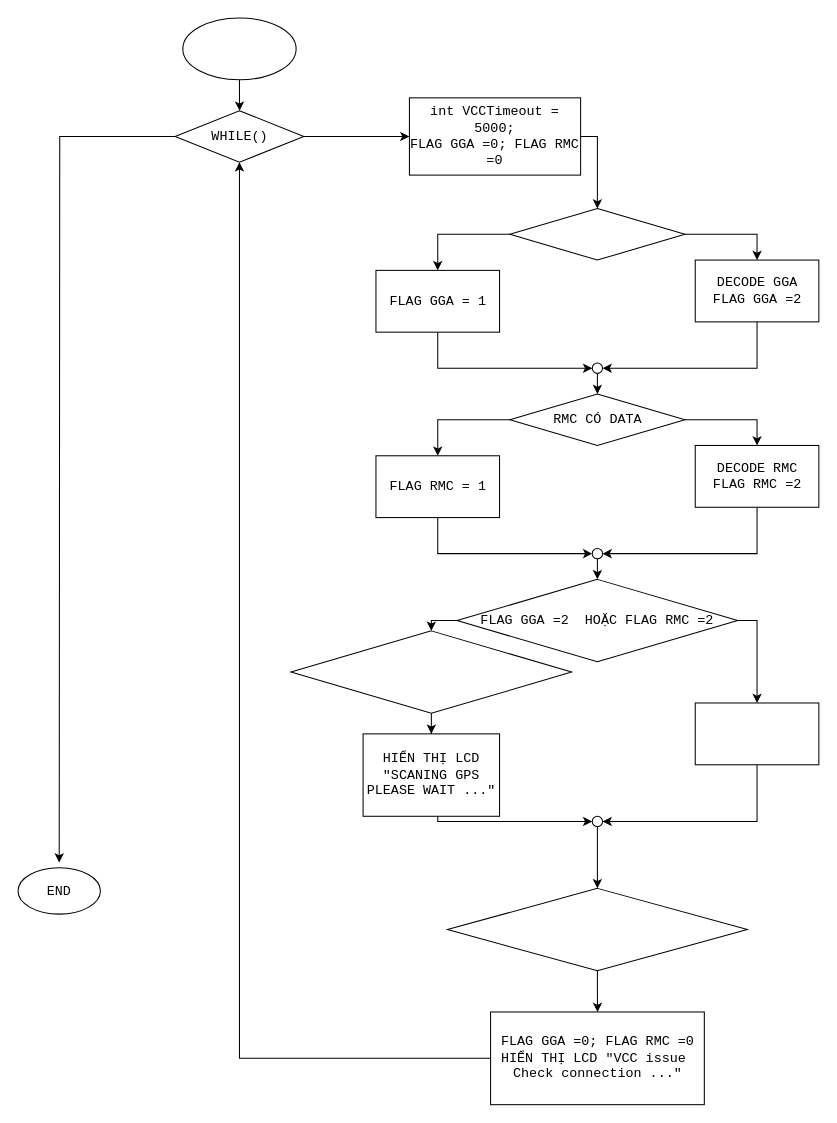
Image size: 837x1123. Some labels were removed from this diagram. The shapes that lost their labels are listed below. From the top down, each one's centre as x and y in pixels, then its label:
At point (239, 48): "start".
At point (597, 234): "GGA CÓ DATA".
At point (431, 671): "FLAG GGA =1 HOẶC FLAG RMC =1".
At point (756, 733): "HIỂN THỊ CÁC THÔNG SỐ DECODE LÊN LCD".
At point (596, 929): "VCCTimeout <= 0".
